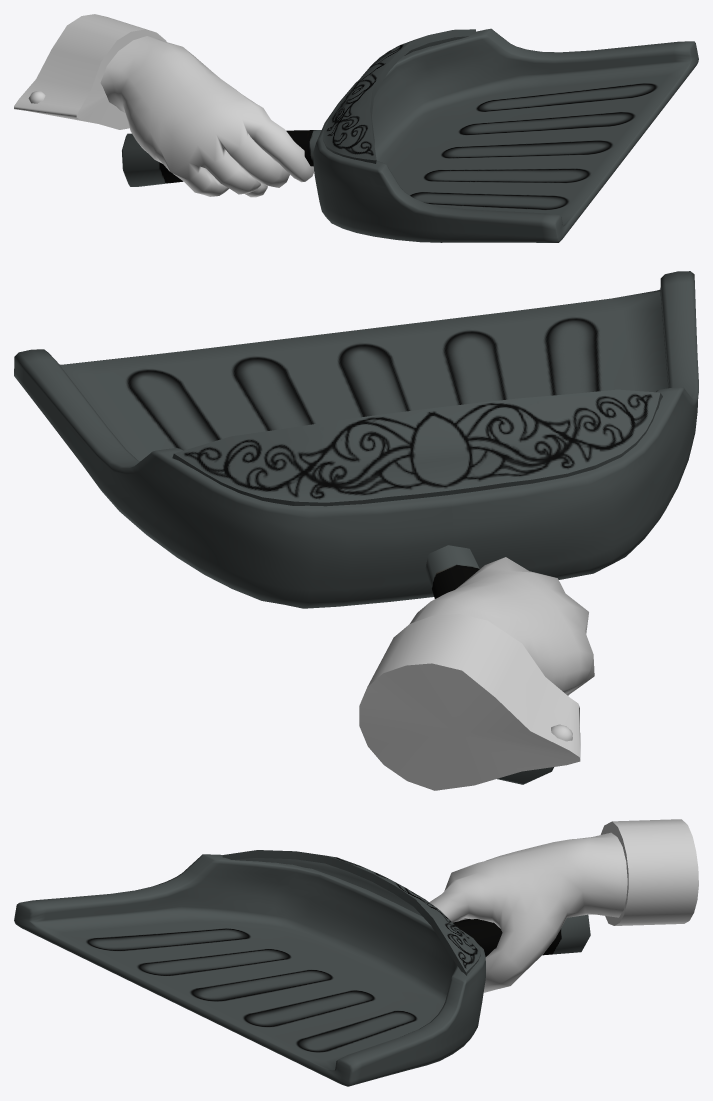
The model's file is dustpanAO.fbx.
The picture shows the model from 3 angles, top to bottom: view 1: azimuth 30°, elevation 25°; view 2: azimuth 150°, elevation 25°; view 3: azimuth 270°, elevation 25°; orthographic projection. The views are drawn at different scales.
Visible parts, largest first — view 1: polySurface41, polySurface39; view 2: polySurface41, polySurface39; view 3: polySurface41, polySurface39.
Boxes of the visible parts, <box> form: polySurface41: <box>122,28,698,242</box>; polySurface39: <box>14,14,314,197</box>; polySurface41: <box>14,271,698,784</box>; polySurface39: <box>359,557,594,790</box>; polySurface41: <box>14,850,590,1086</box>; polySurface39: <box>429,819,698,992</box>.
Size of the model in its own units: 126 by 34.38 by 135.
